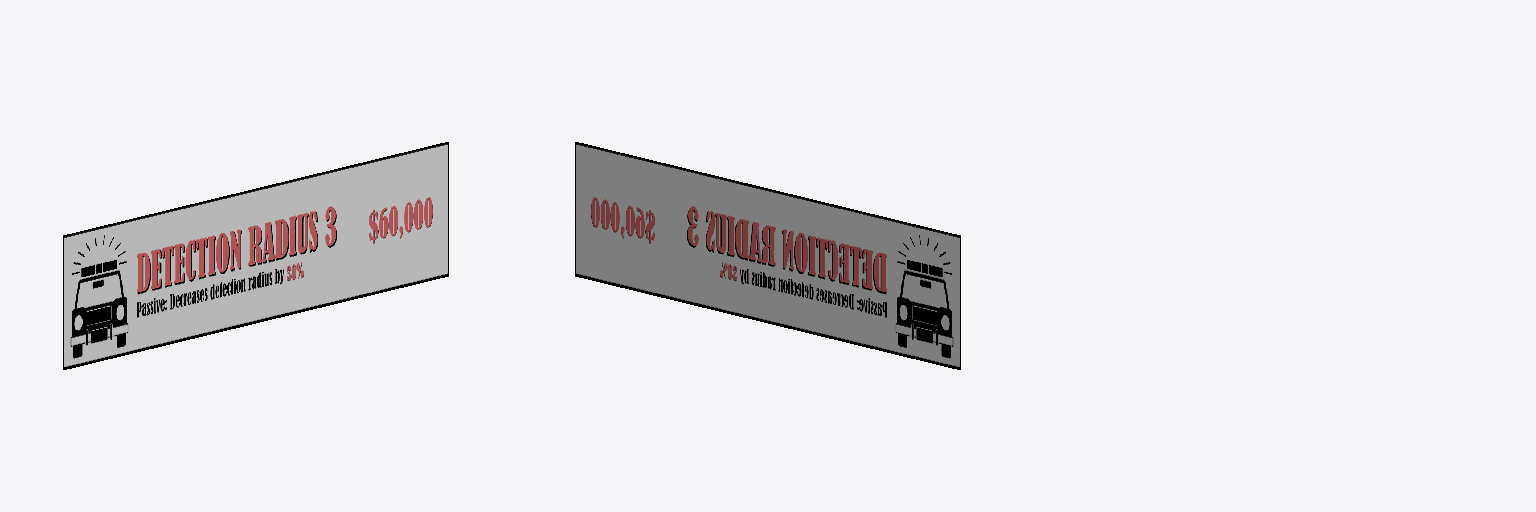
The picture shows the model from 3 angles: view 1: azimuth 30°, elevation 25°; view 2: azimuth 150°, elevation 25°; view 3: azimuth 270°, elevation 25°; orthographic projection.
Parts seen in each view (by area): view 1: Plane.004; view 2: Plane.004; view 3: none.
Part boxes in pixels (x1,y1,x2,y2): Plane.004: (63,142,448,369); Plane.004: (575,142,960,369).
Bounding box in the file's own units: 0.9 × 0.3 × 0.
Materials: 1 (1 with a texture image).